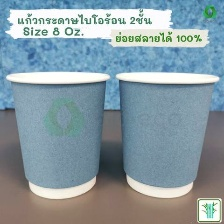paper_cup: (2, 66, 114, 202), (111, 67, 222, 202)
